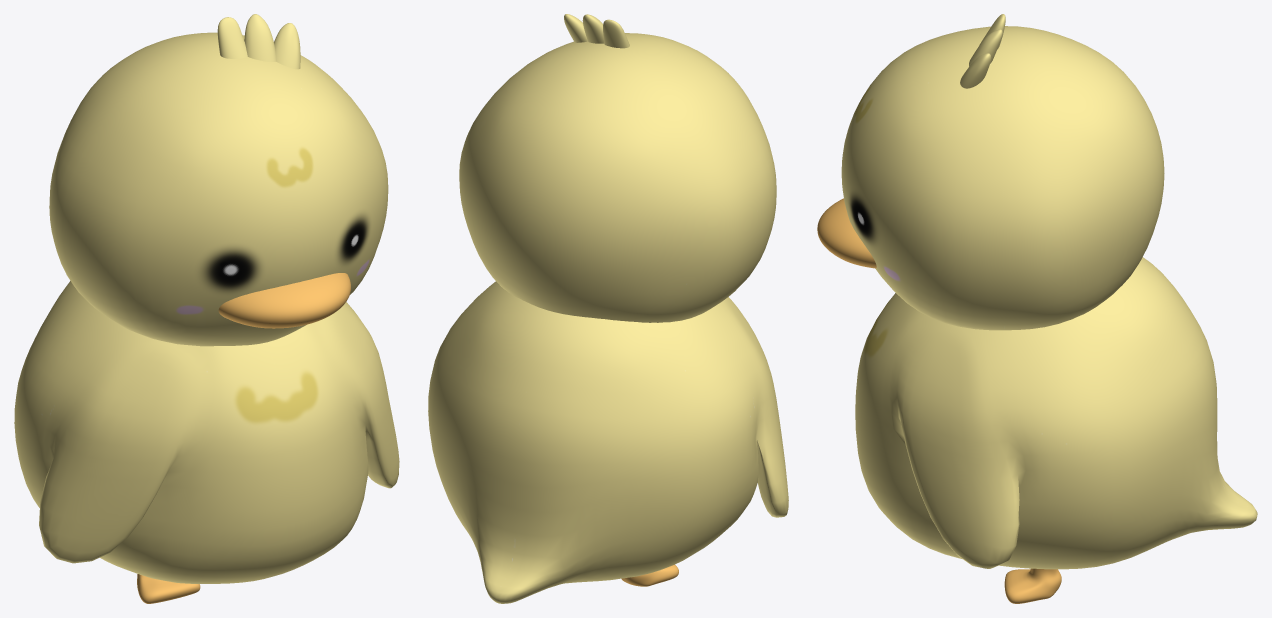
File: duckling.fbx
The picture shows the model from 3 angles, left to right: view 1: azimuth 30°, elevation 25°; view 2: azimuth 150°, elevation 25°; view 3: azimuth 270°, elevation 25°; orthographic projection. The views are drawn at different scales.
Parts seen in each view (by area): view 1: ducklinghead.002, ducklingbody.002, ducking rightfoot.002; view 2: ducklingbody.002, ducklinghead.002, ducking rightfoot.002; view 3: ducklingbody.002, ducklinghead.002, ducklingleftfoot.002.
Boxes of the visible parts, x1=… form: ducklinghead.002: x1=49, y1=14, x2=388, y2=346; ducklingbody.002: x1=14, y1=281, x2=399, y2=583; ducking rightfoot.002: x1=137, y1=574, x2=200, y2=603; ducklingbody.002: x1=428, y1=281, x2=788, y2=603; ducklinghead.002: x1=459, y1=14, x2=776, y2=322; ducking rightfoot.002: x1=621, y1=564, x2=678, y2=586; ducklingbody.002: x1=855, y1=257, x2=1257, y2=569; ducklinghead.002: x1=817, y1=14, x2=1164, y2=330; ducklingleftfoot.002: x1=1004, y1=568, x2=1061, y2=603.
Size of the model in its own units: 54.14 by 84.49 by 60.41.
3 materials, 1 textured.
